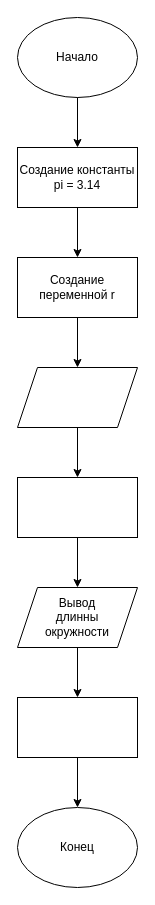
This 155x905 diagram has some shape labels left out. Here are the shapes that lost their labels. From the top down, the centre of each, then its label:
[77,397]: Ввод r
[77,507]: Вычисление длинны окружности 2*pi*r
[77,727]: Вычисление площади окружности pi*r^2
